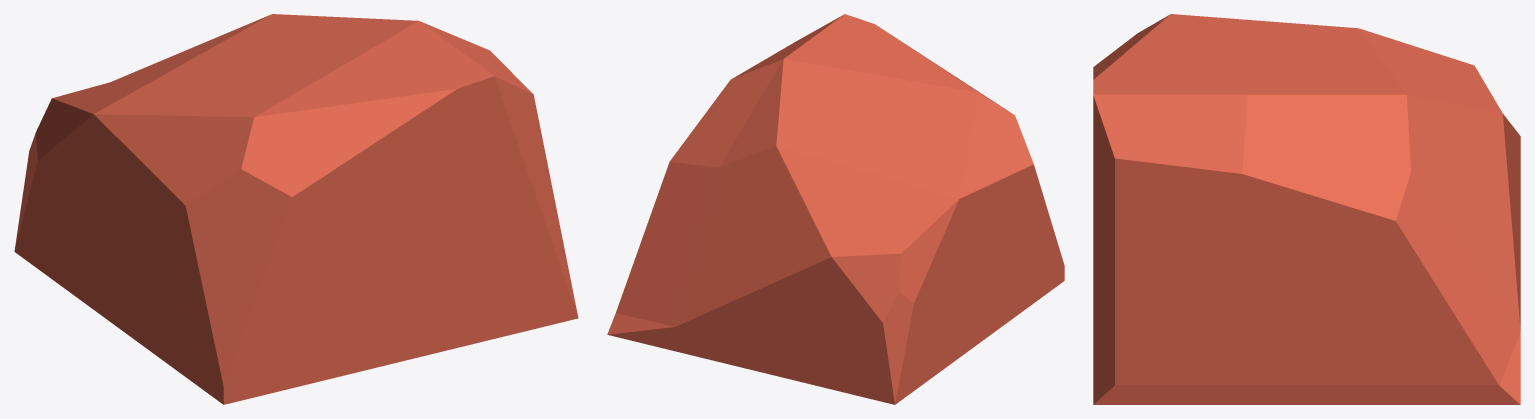
Rendered from Roca_pequena.fbx.
3 views of the same model, side by side, from view 1: azimuth 30°, elevation 25°; view 2: azimuth 150°, elevation 25°; view 3: azimuth 270°, elevation 25° (orthographic). The views are drawn at different scales.
Visible parts, largest first — view 1: roca; view 2: roca; view 3: roca.
Boxes of the visible parts, x1,y1,x2,y2 form: roca: (14, 14, 578, 404); roca: (607, 14, 1064, 404); roca: (1093, 14, 1520, 404).
Size of the model in its own units: 686 by 485 by 701.
